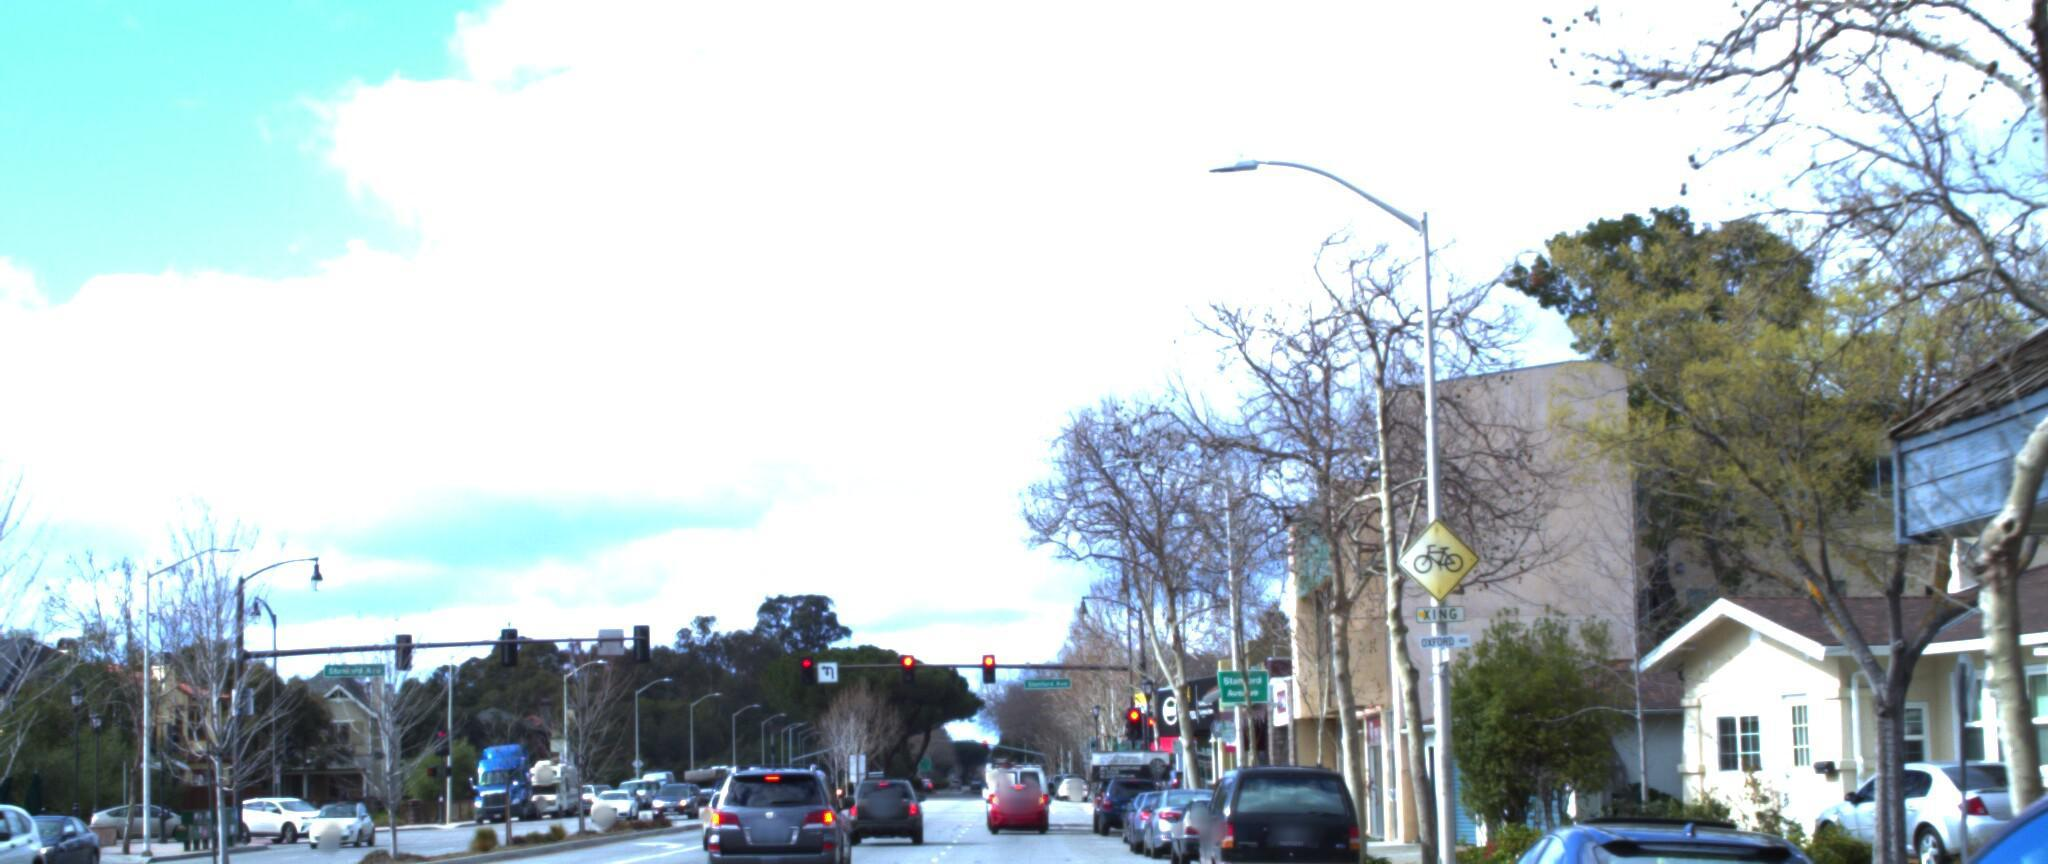car: (1710, 700, 2048, 864), (1432, 782, 1921, 864), (1782, 727, 2048, 854), (1194, 731, 1374, 864), (699, 733, 853, 864), (856, 733, 933, 812), (0, 786, 59, 864)
